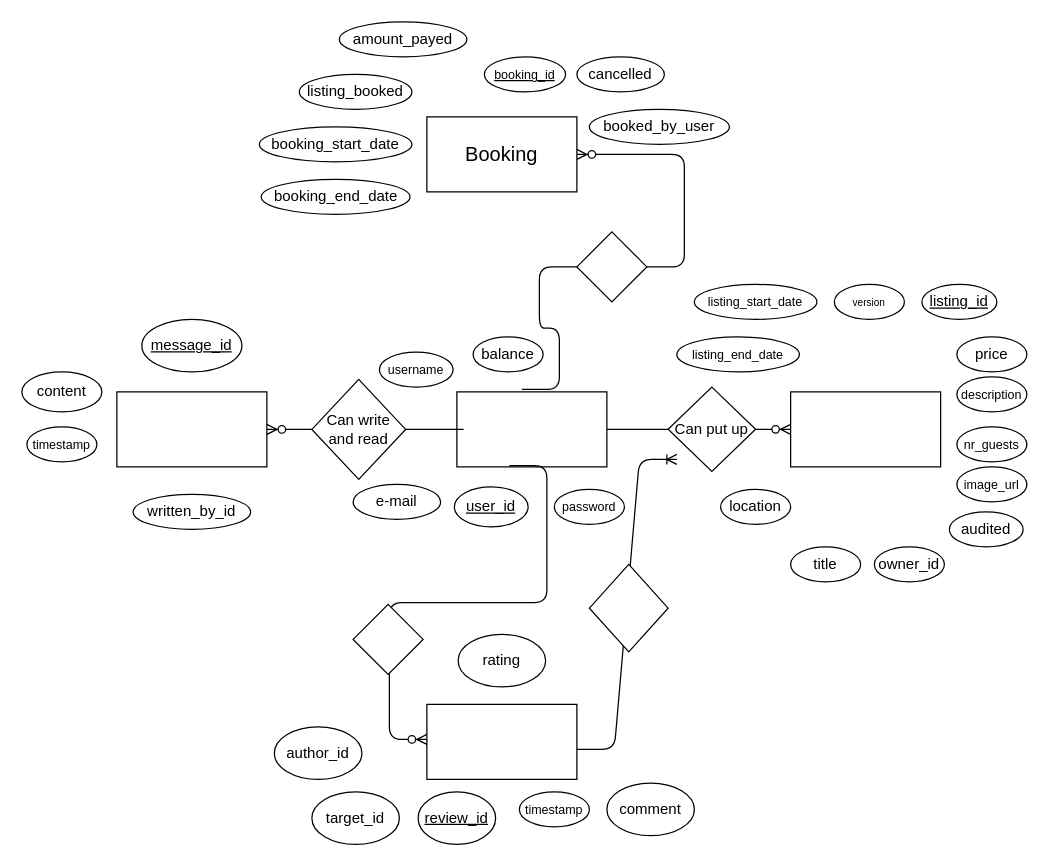
Image size: 1049x866. Some labels were removed from this diagram. The shapes that lost their labels are listed below. From the top down, each one's centre as x and y in pixels, then its label:
At [611,266]: "Can have".
At [191,429]: "Message".
At [531,429]: "User".
At [865,429]: "Listing".
At [628,607]: "Can be placed on".
At [387,638]: "Can make".
At [501,741]: "Review".
